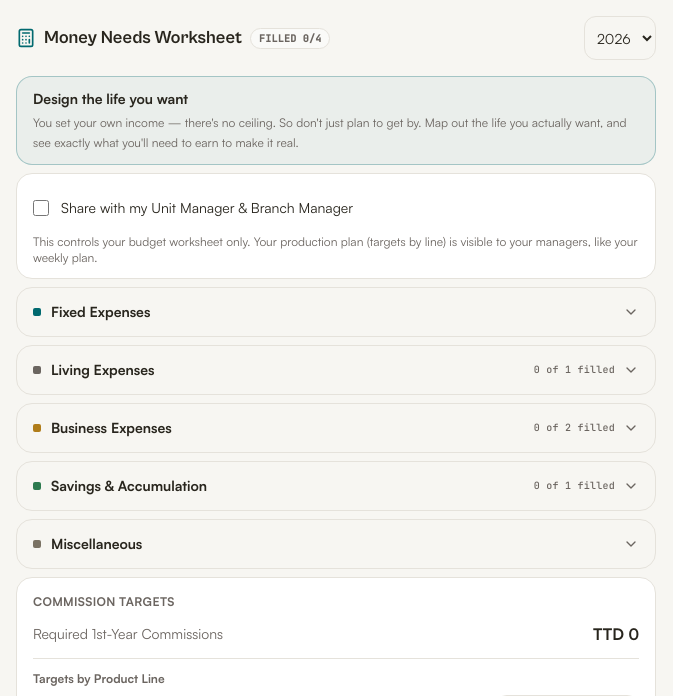
Test: MoneyNeedsPanel — floating calculators › empty calc-fed line shows a "Build with calculator" CTA
The image size is (673, 696).
Expected: the heading "Money Needs Worksheet" is shown, [44,24,242,52]
Expected: the button "Business Expenses 0 of 2 filled" is shown, [17,404,655,452]
Click the button "Savings & Accumulation 0 of 1 filled": (129, 486) [17,462,655,510]
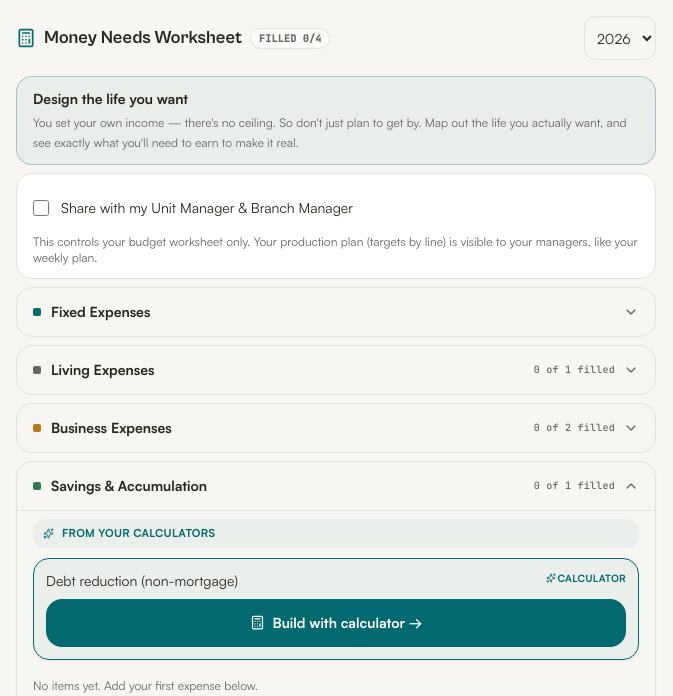
Result: the button "Build with calculator →" is shown at [46,598,626,646]
